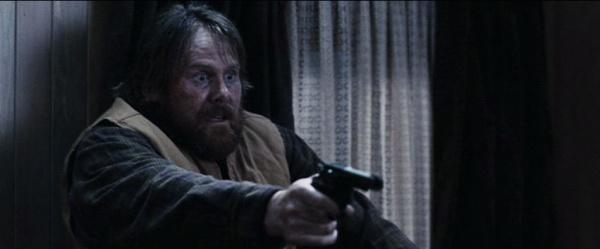Gun: (311, 160, 385, 210)
